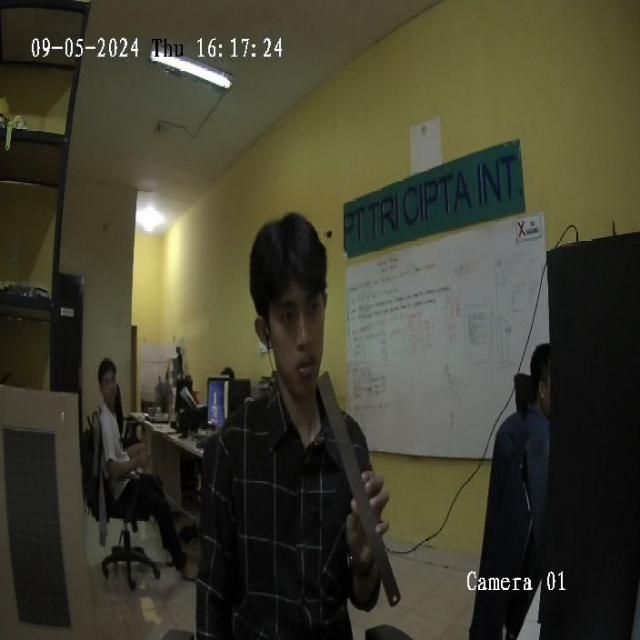Ruler: (319, 373, 398, 604)
